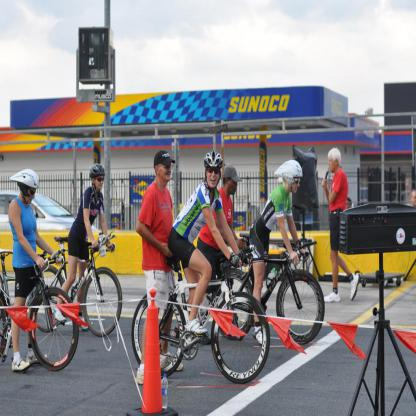face: (207, 162, 220, 189), (160, 159, 173, 180), (25, 183, 37, 204), (229, 176, 239, 195), (292, 175, 301, 194), (95, 172, 105, 189), (329, 156, 336, 172)
